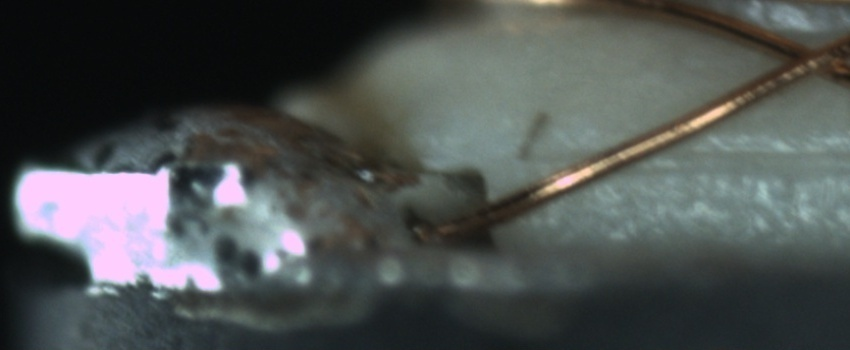CL: (758, 26, 845, 89)
DL: (547, 125, 849, 189)
